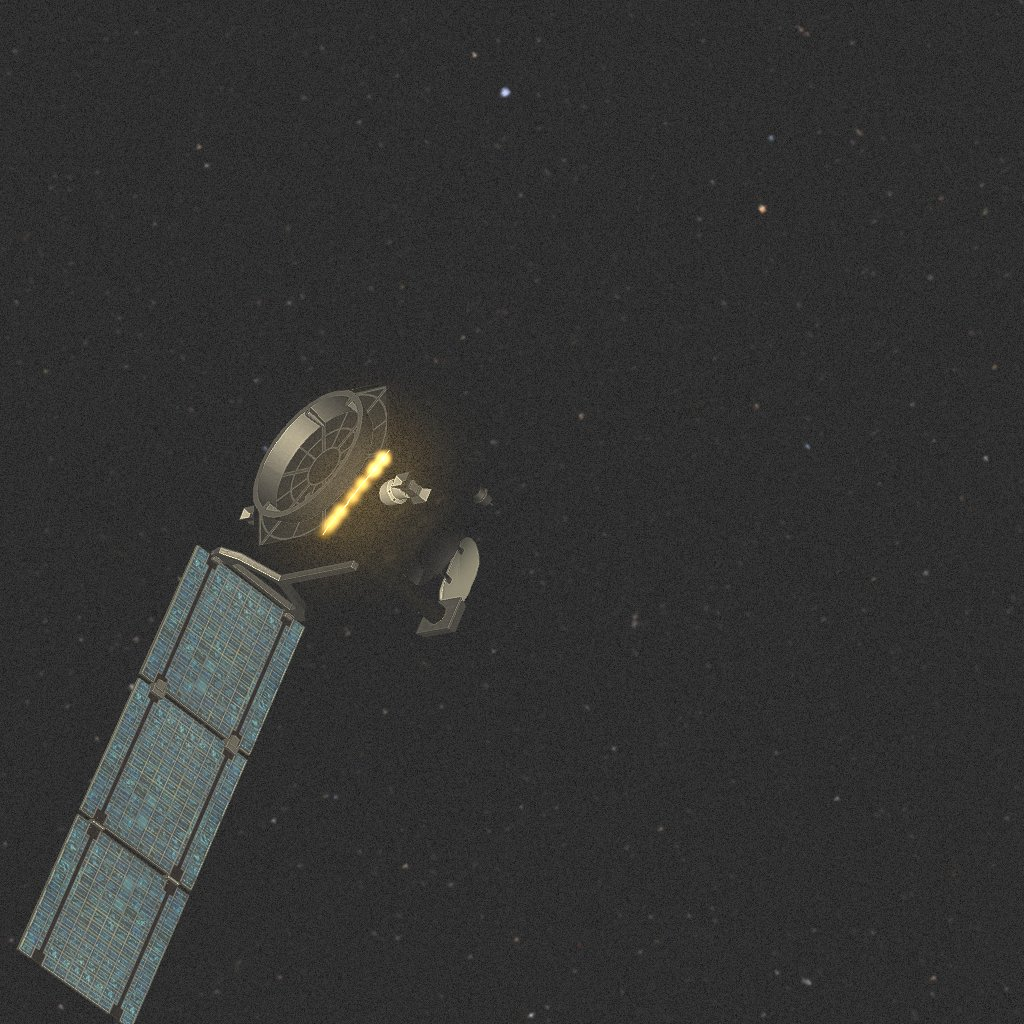earth_observation_sat_1: (25, 397, 492, 989)
